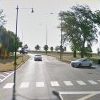crosswalk: (0, 79, 99, 89)
